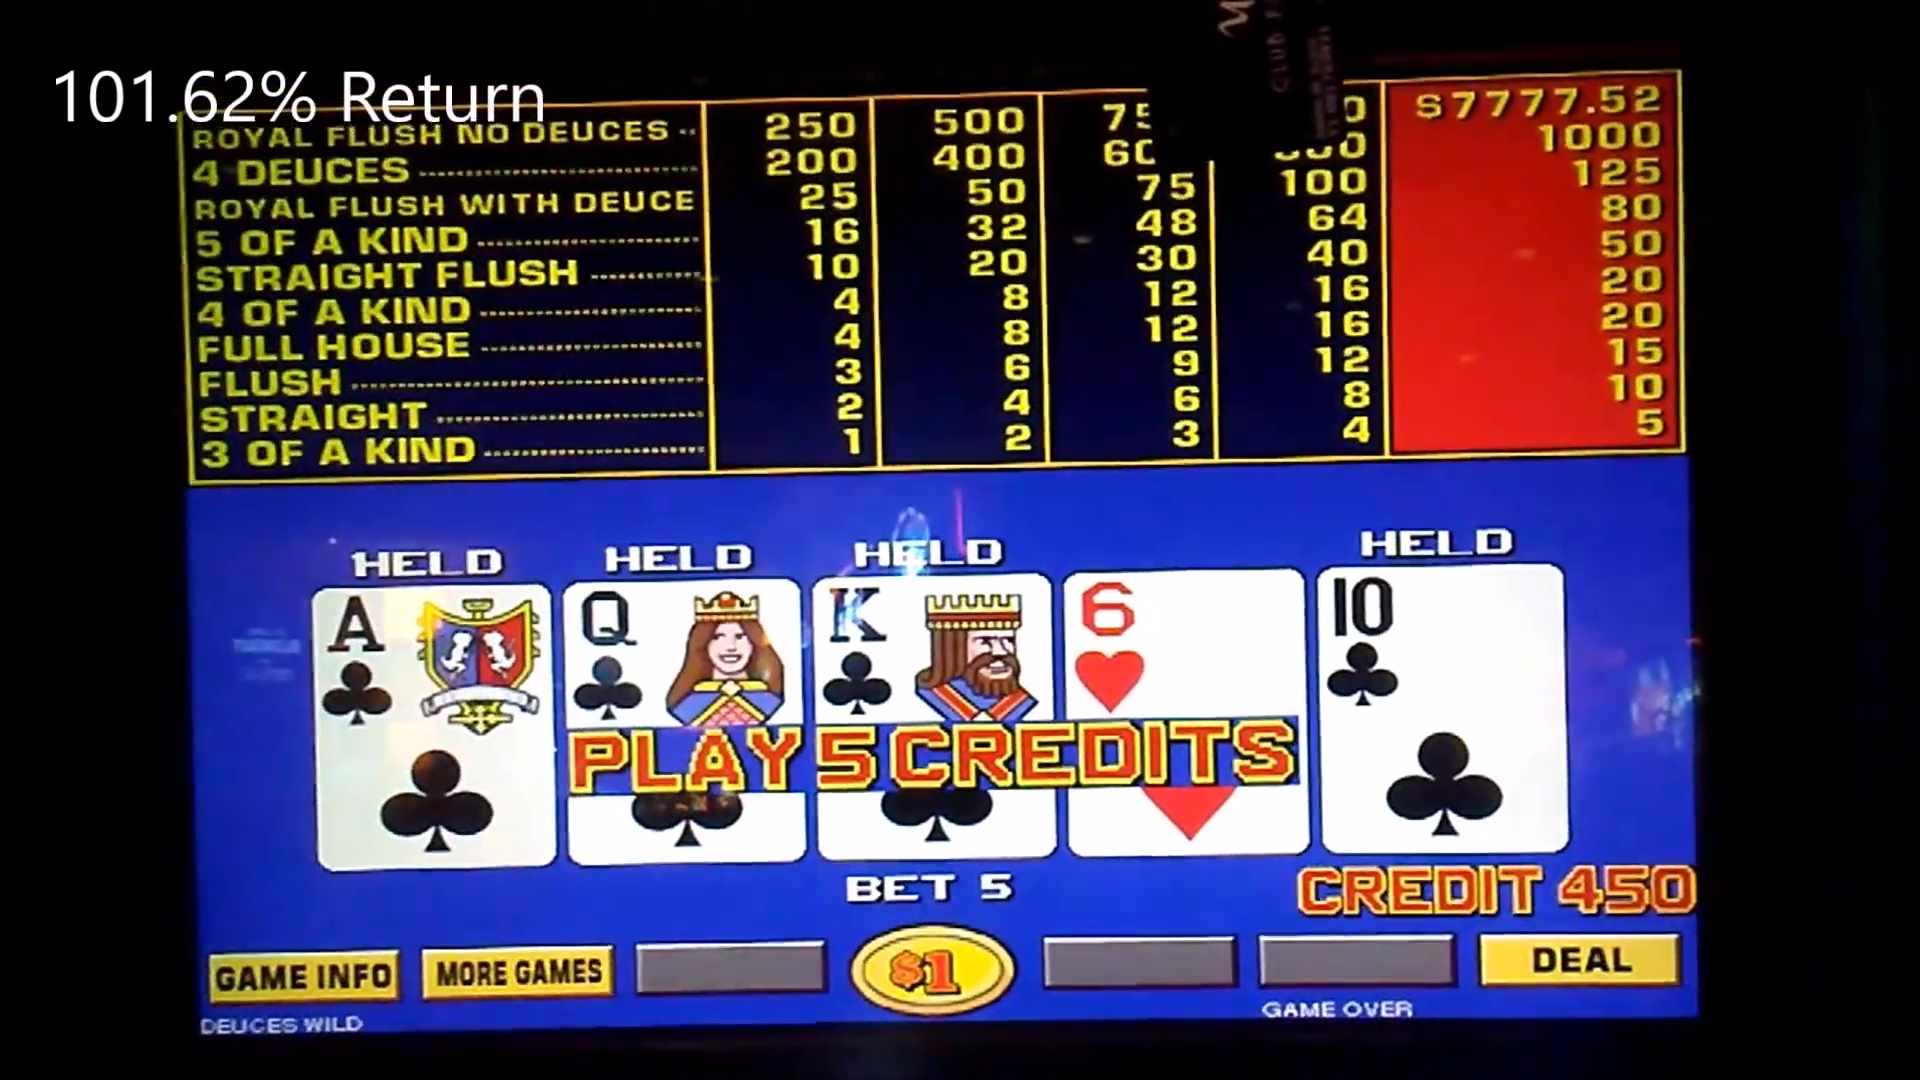6H: (1067, 572, 1308, 709)
AC: (315, 588, 553, 728)
KC: (822, 578, 1048, 716)
QC: (567, 584, 793, 719)
TC: (1321, 564, 1563, 711)
